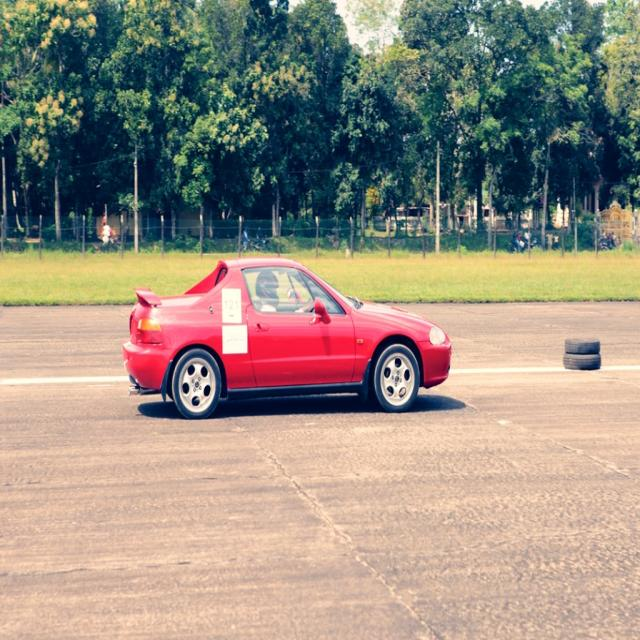car: (124, 245, 448, 417)
